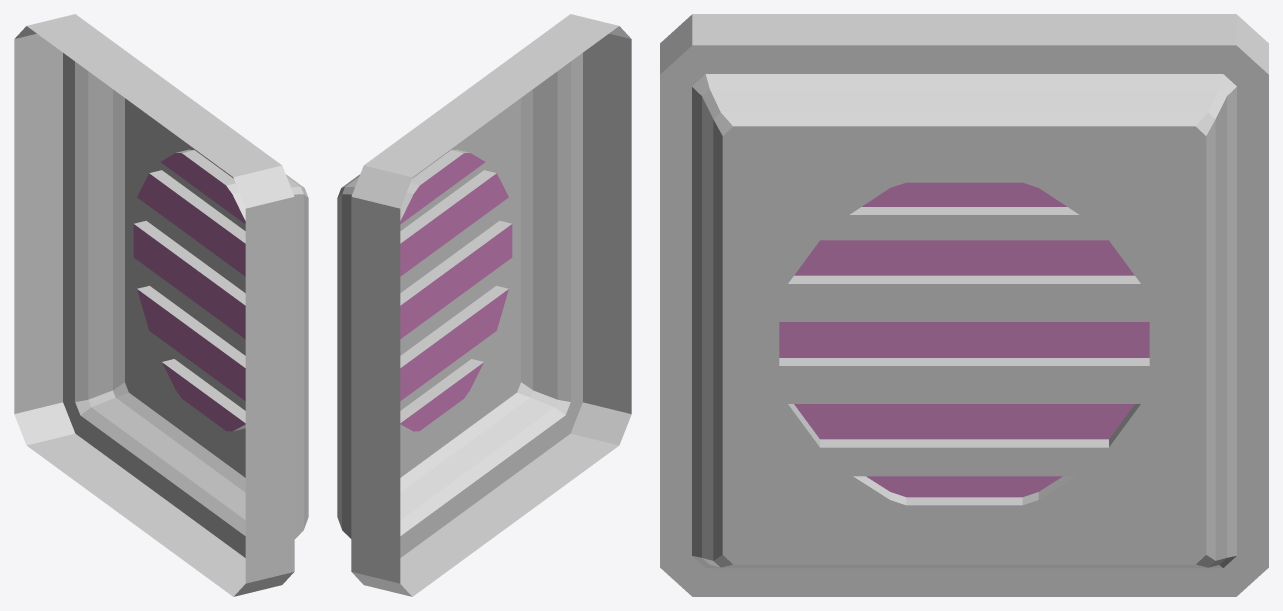
File: breaker_speaker.fbx
3 views of the same model, side by side, from view 1: azimuth 30°, elevation 25°; view 2: azimuth 150°, elevation 25°; view 3: azimuth 270°, elevation 25° (orthographic). The views are drawn at different scales.
Visible parts, largest first — view 1: breaker_speaker; view 2: breaker_speaker; view 3: breaker_speaker.
Part boxes in pixels (x1=…): breaker_speaker: x1=14, y1=14, x2=308, y2=596; breaker_speaker: x1=337, y1=14, x2=631, y2=596; breaker_speaker: x1=660, y1=14, x2=1268, y2=596.
Size of the model in its own units: 5.7 by 26.31 by 26.31.
